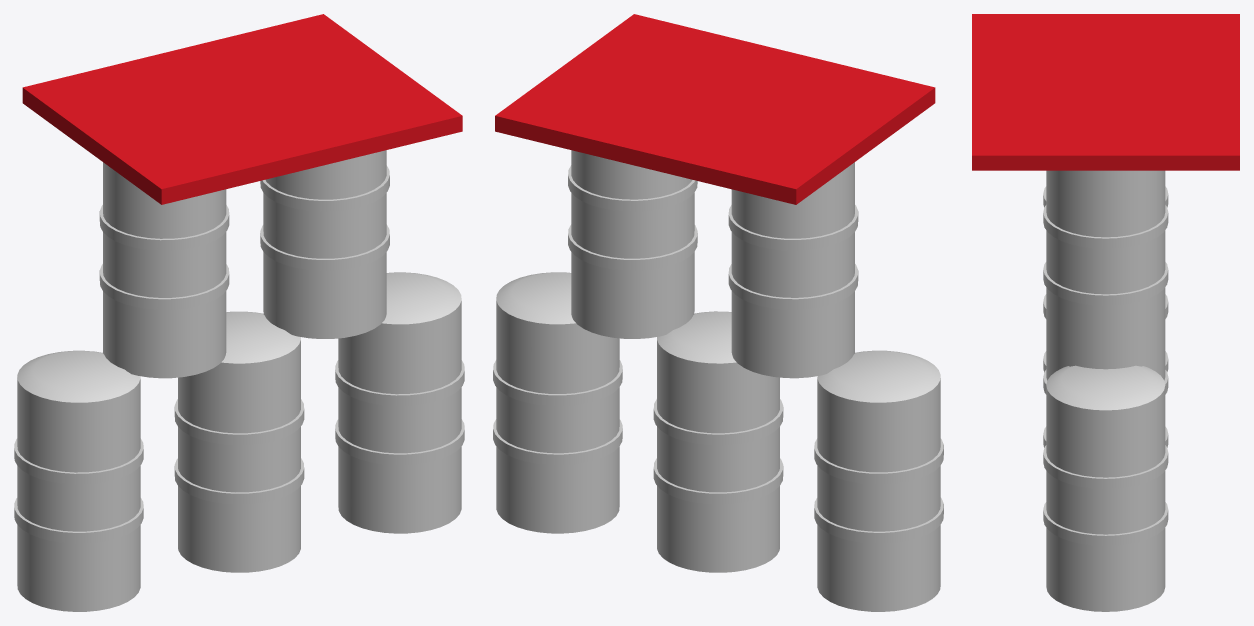
Rendered from Barril.fbx.
3 views of the same model, side by side, from view 1: azimuth 30°, elevation 25°; view 2: azimuth 150°, elevation 25°; view 3: azimuth 270°, elevation 25° (orthographic). The views are drawn at different scales.
Parts seen in each view (by area): view 1: Barril, Cube.074; view 2: Barril, Cube.074; view 3: Barril, Cube.074.
Part boxes in pixels (x1=…): Barril: x1=14, y1=150, x2=464, y2=611; Cube.074: x1=22, y1=14, x2=462, y2=204; Barril: x1=493, y1=150, x2=943, y2=611; Cube.074: x1=495, y1=14, x2=935, y2=204; Barril: x1=1043, y1=170, x2=1168, y2=611; Cube.074: x1=972, y1=14, x2=1239, y2=170.
Size of the model in its own units: 810 by 793 by 450.
